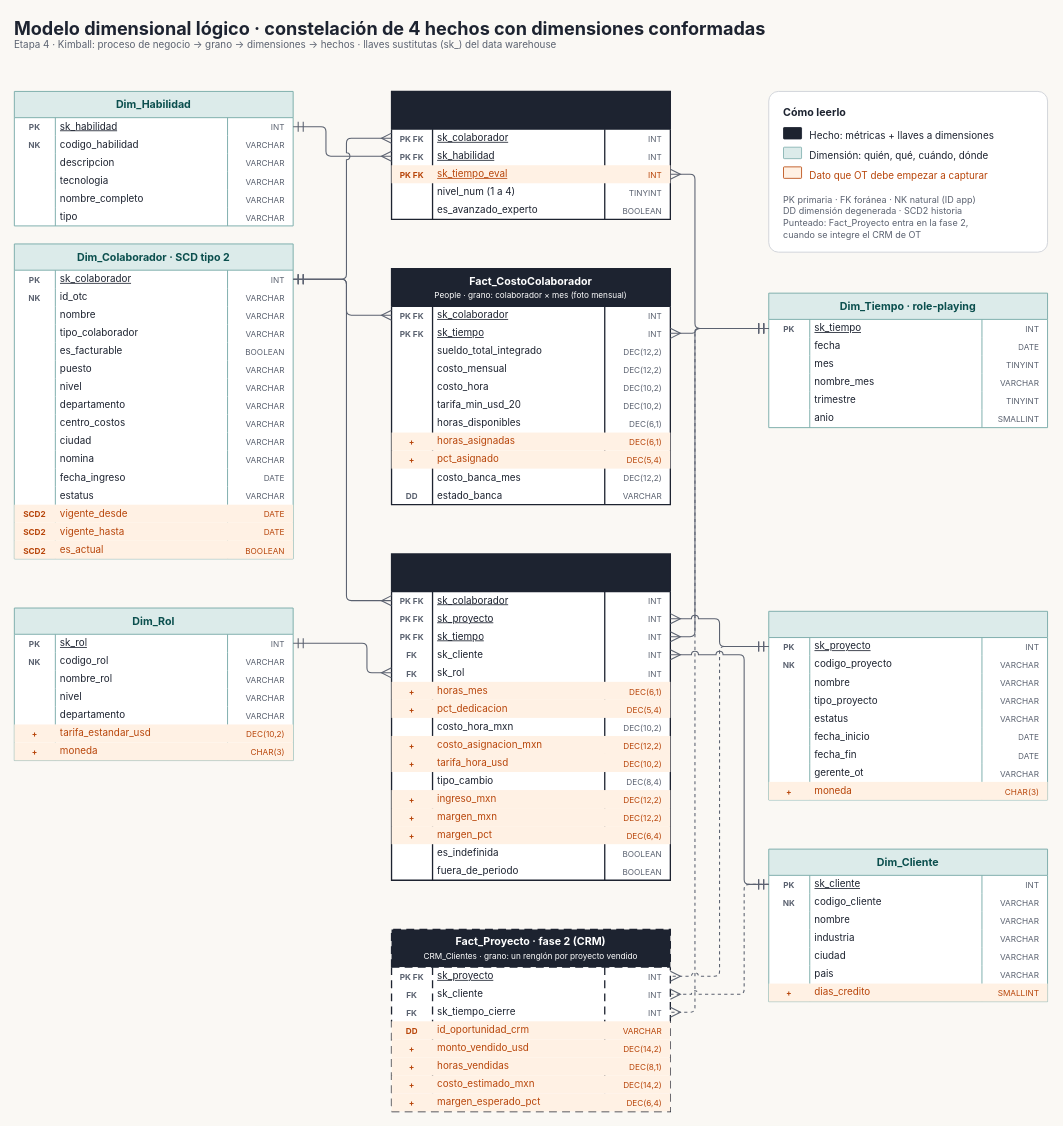
This 1063x1126 diagram has some shape labels left out. Here are the shapes that lost their labels. From the top down, the box of each, then its label:
(390, 90, 671, 220): Fact_Habilidad People · grano: colaborador × habilidad × evaluación
(390, 553, 671, 881): Fact_Asignacion Operación · grano: colaborador × proyecto × mes
(768, 610, 1048, 800): Dim_Proyecto
